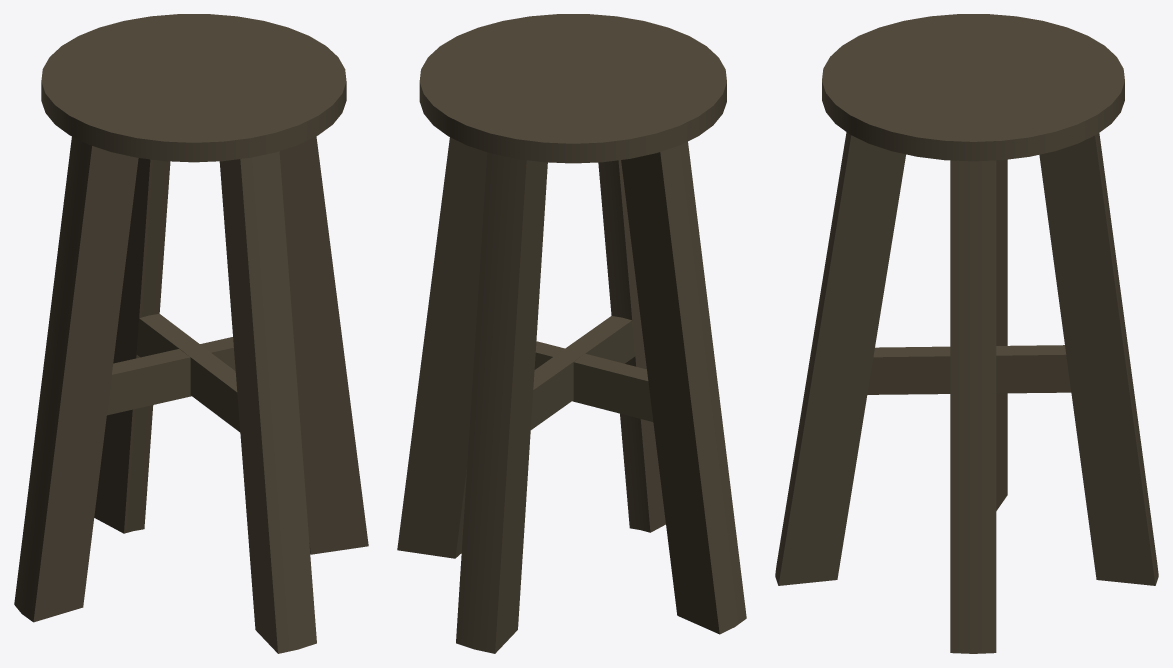
File: banc.fbx
3 views of the same model, side by side, from view 1: azimuth 30°, elevation 25°; view 2: azimuth 150°, elevation 25°; view 3: azimuth 270°, elevation 25° (orthographic).
Visible parts, largest first — view 1: pCylinder1; view 2: pCylinder1; view 3: pCylinder1.
Boxes of the visible parts, x1,y1,x2,y2 form: pCylinder1: [14, 14, 368, 653]; pCylinder1: [397, 14, 746, 653]; pCylinder1: [775, 14, 1158, 653].
Size of the model in its own units: 160 by 230 by 161.
